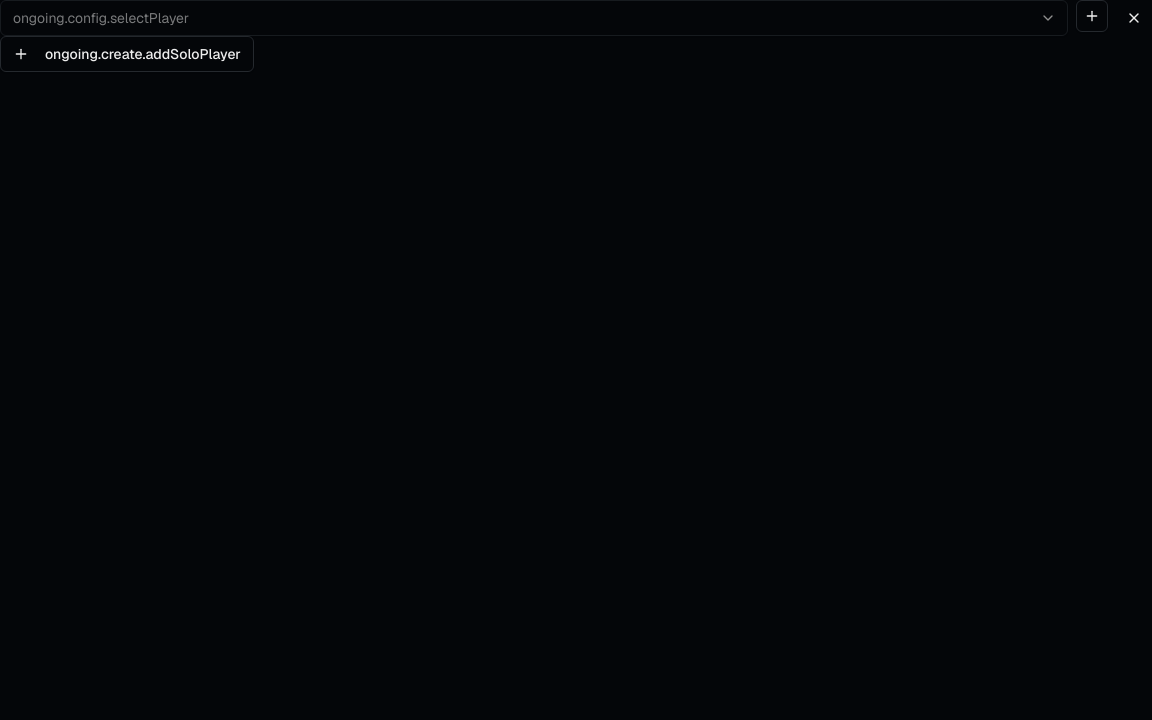
Scenario: SoloPlayerDraftEditor › does not offer a player already committed to a team
The width and height of the screenshot is (1152, 720).
Press the mouse on the dropdown with id "solo-0": (534, 18) [0,0,1068,36]
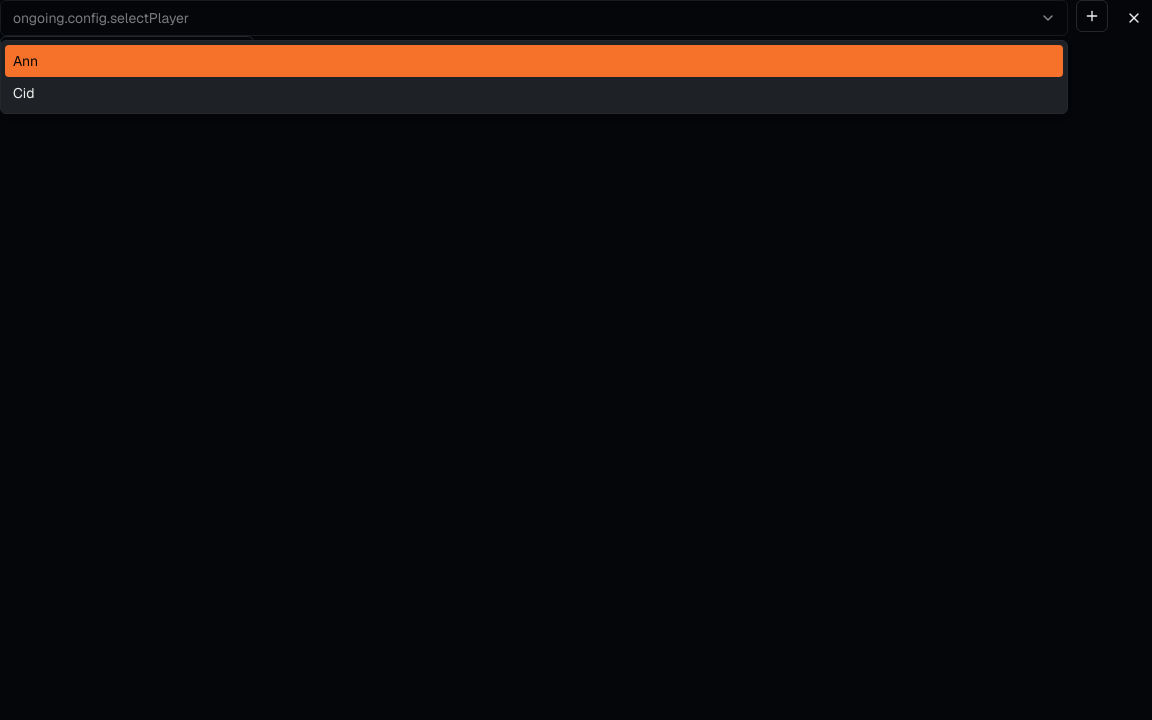
Expected: the text "Ann" is shown, [13,52,38,70]
